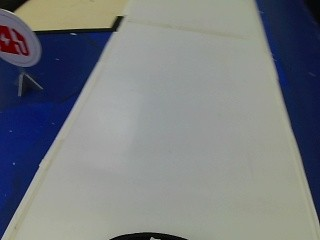battery: (0, 7, 44, 68)
